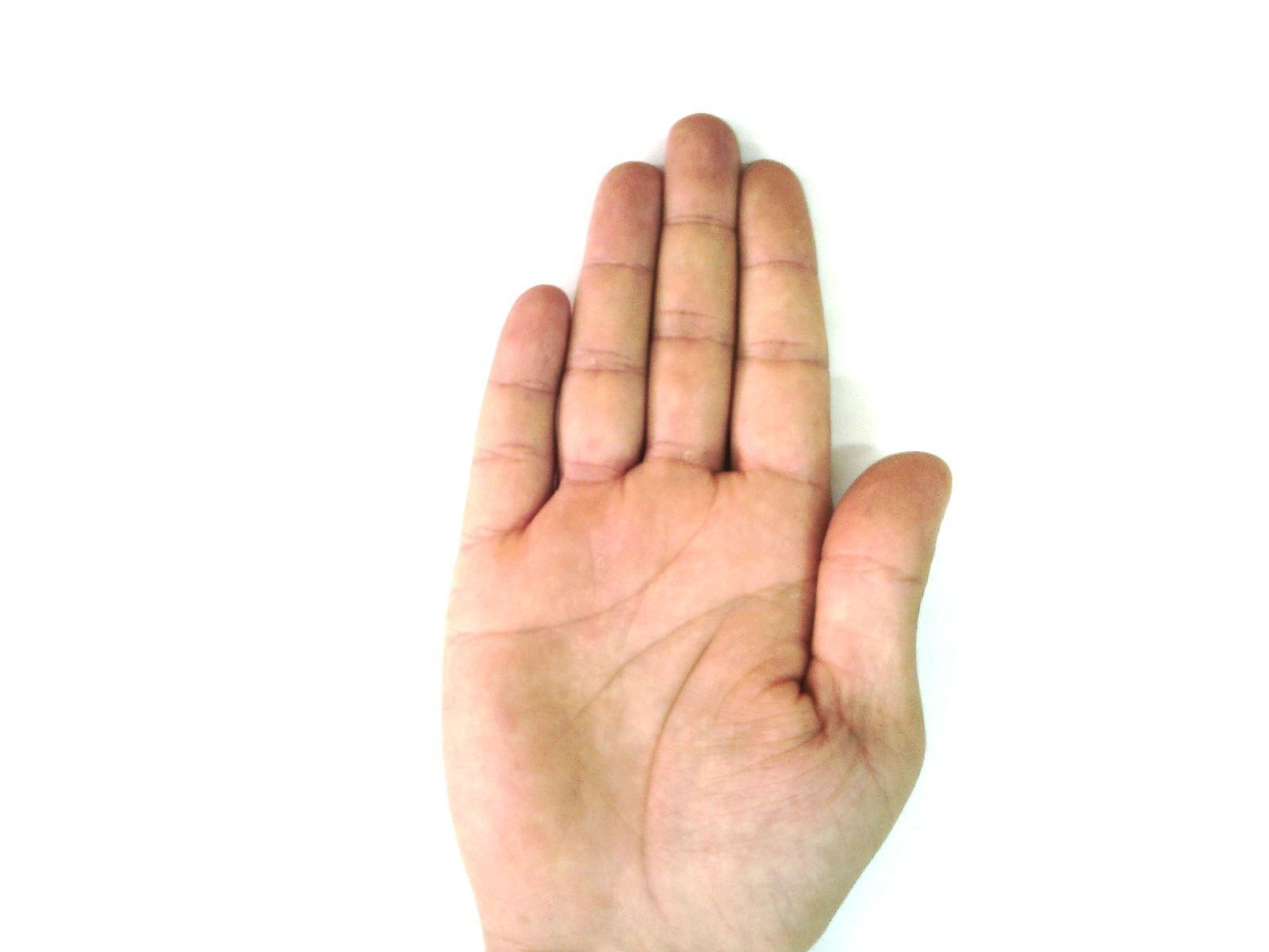open_palm: (437, 113, 956, 951)
